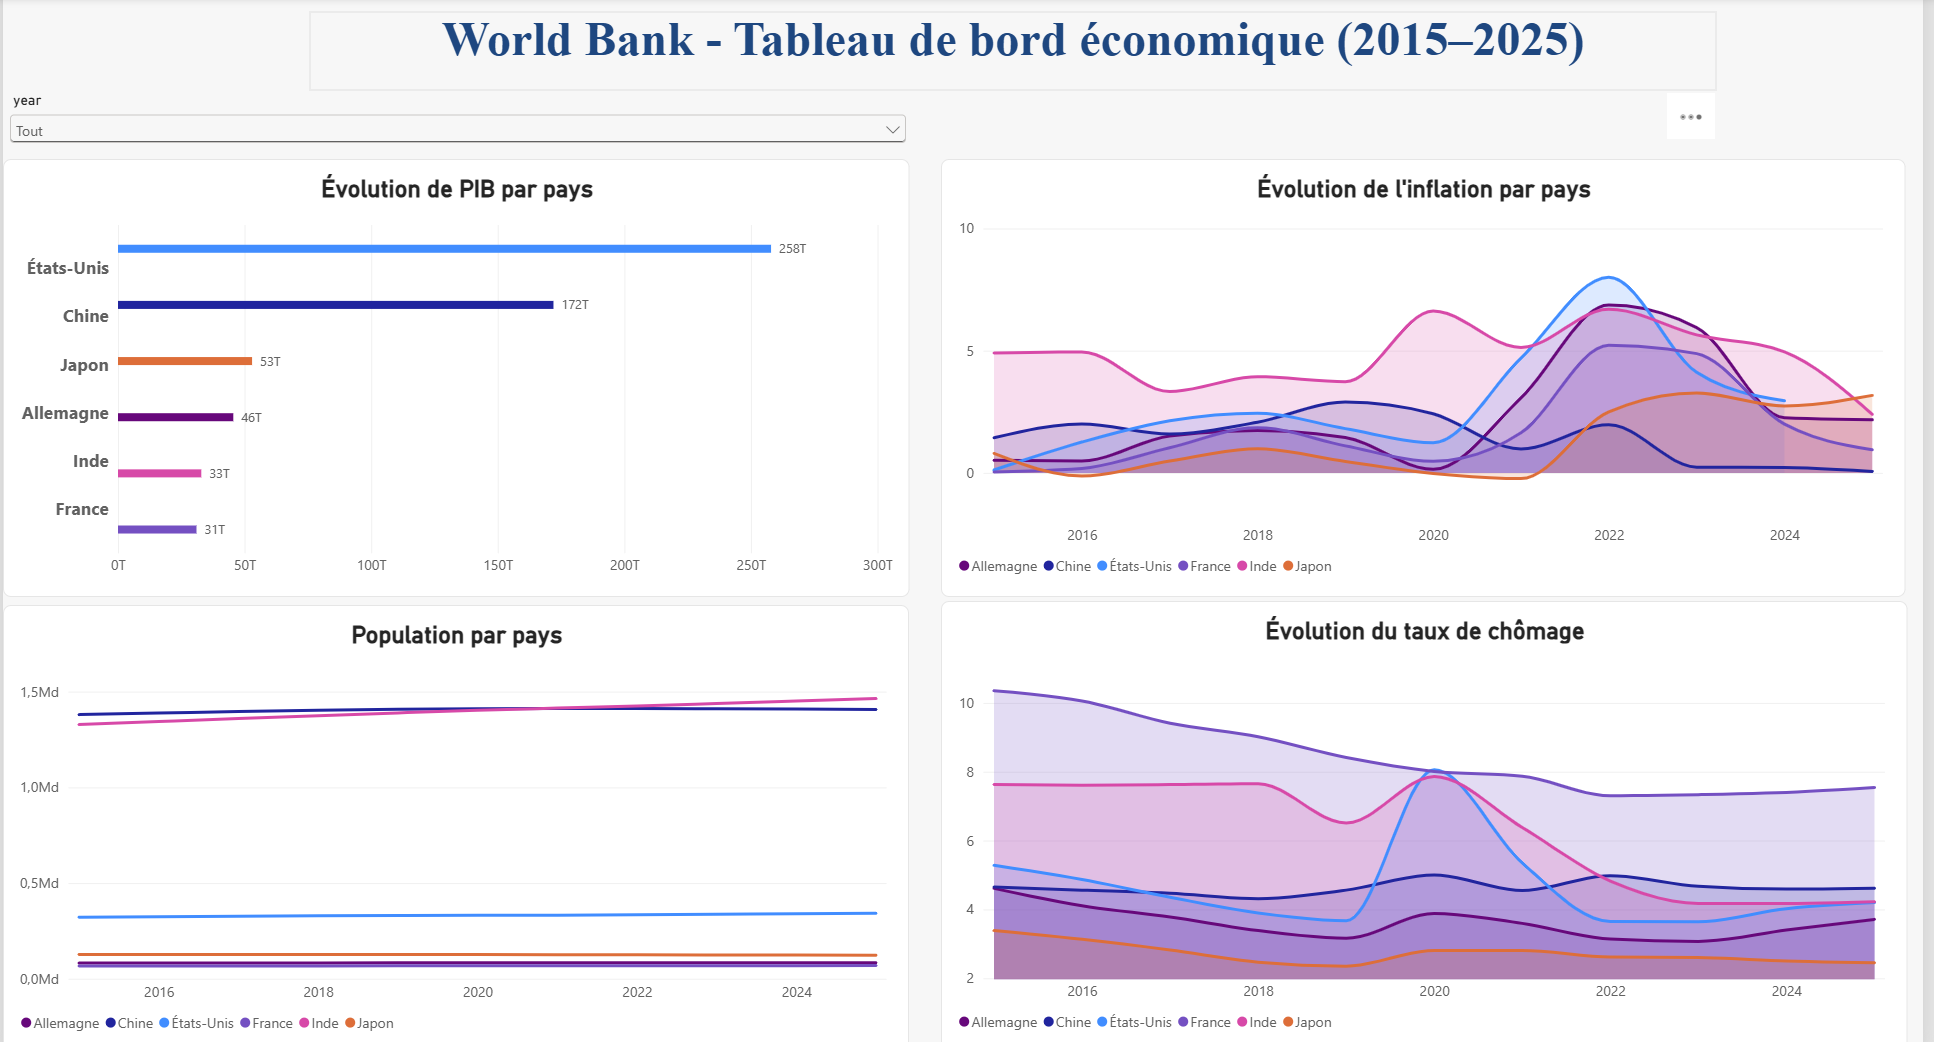

The page's visual inventory and layout, read from the dashboard file:
{"tool":"powerbi","page":{"name":"Page 1","canvas":[1920,1080],"ordinal":0},"visuals":[{"type":"clusteredBarChart","title":"Évolution de PIB par pays ","fields":{"Category":["silver economic_indicators.country_name"],"Series":["silver economic_indicators.country_name"],"Y":["Sum(silver economic_indicators.value)"]},"box":[0,183.8,906.5,437.8],"z":0},{"type":"lineChart","title":"Évolution de l''inflation par pays","fields":{"Category":["silver economic_indicators.year"],"Series":["silver economic_indicators.country_name"],"Y":["Avg(silver economic_indicators.value)"]},"box":[937.5,183.8,964.4,437.8],"z":2000},{"type":"lineChart","title":"Évolution du taux de chômage ","fields":{"Category":["silver economic_indicators.year"],"Series":["silver economic_indicators.country_name"],"Y":["Avg(silver economic_indicators.value)"]},"box":[937.5,625.7,966.4,452.2],"z":3000},{"type":"lineChart","title":"Population par pays ","fields":{"Category":["silver economic_indicators.year"],"Series":["silver economic_indicators.country_name"],"Y":["Avg(silver economic_indicators.value)"]},"box":[0,630.5,906,448.8],"z":4000},{"type":"textbox","box":[305.6,35.1,1408.3,80.5],"z":5000}]}

Visuals, with their boxes on the page's 1920x1080 design canvas (x1, y1, x2, y2). These are canvas units, not pixel positions in the 1934x1042 screenshot, which may show the page scaled, cropped or inside an application window:
"Évolution de PIB par pays " clusteredBarChart: crop(0, 184, 906, 622)
"Évolution de l''inflation par pays" lineChart: crop(938, 184, 1902, 622)
"Évolution du taux de chômage " lineChart: crop(938, 626, 1904, 1078)
"Population par pays " lineChart: crop(0, 630, 906, 1079)
textbox: crop(306, 35, 1714, 116)
